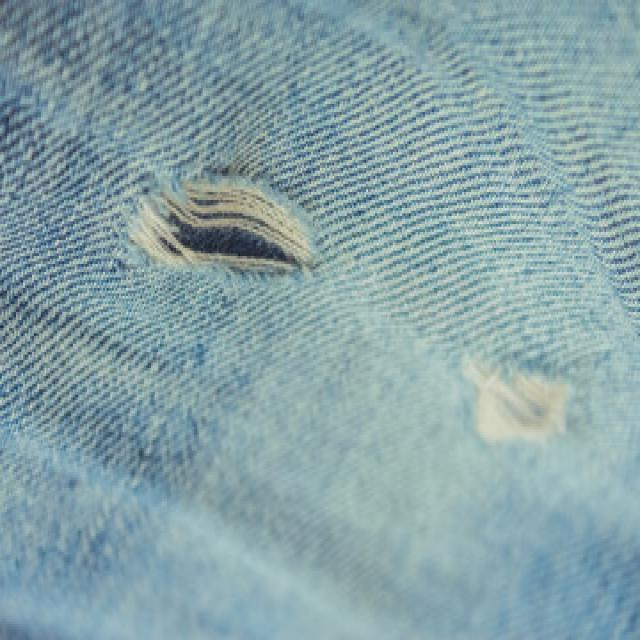Hole: (128, 176, 311, 271), (464, 356, 570, 442)
